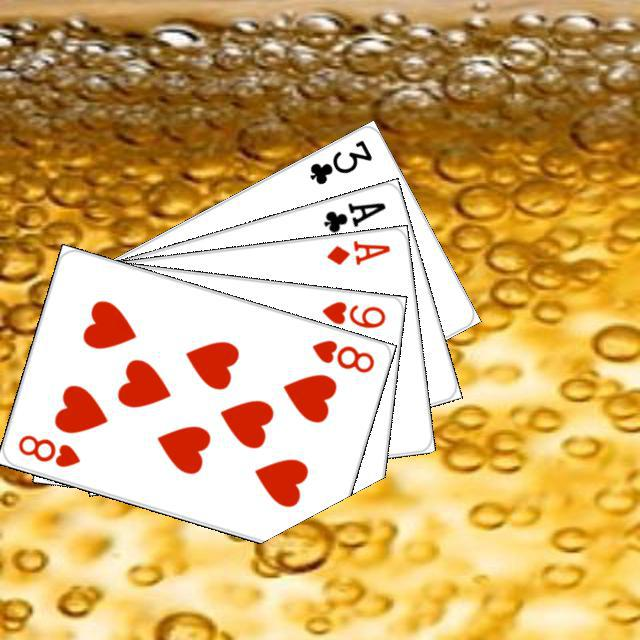3c: (304, 134, 374, 187)
8h: (307, 335, 376, 375), (13, 429, 82, 469)
9h: (316, 296, 387, 330)
Ac: (318, 197, 388, 235)
Ad: (321, 236, 392, 267)
